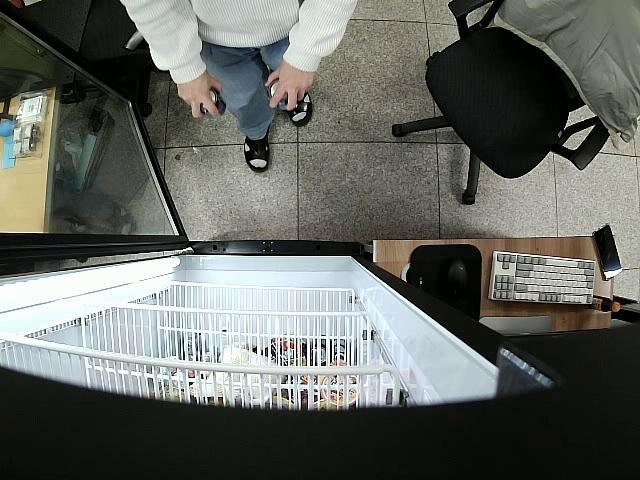14_welchsGrape: (266, 77, 293, 114), (199, 88, 227, 118)
